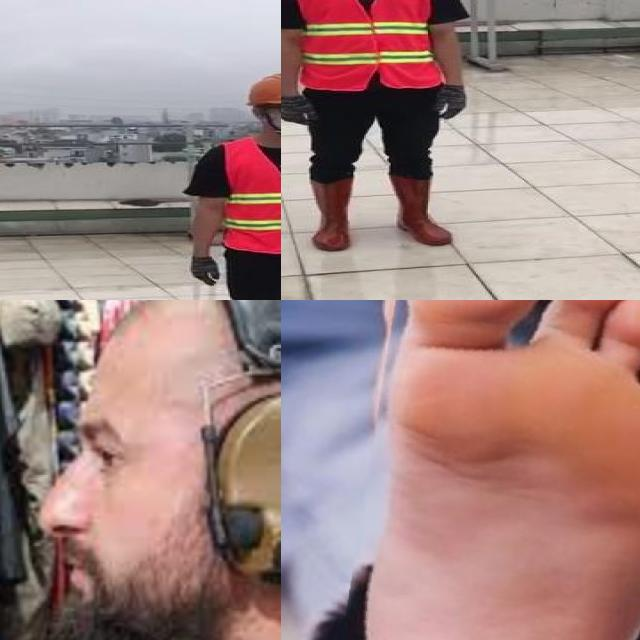Barefoots: (350, 300, 640, 640)
Ear-protection: (202, 300, 281, 594)
boots: (391, 175, 458, 247), (307, 179, 353, 251)
face_mask: (267, 102, 281, 135)
glasses: (268, 101, 281, 118)
hand_glove: (281, 96, 317, 129), (437, 88, 471, 118), (187, 257, 221, 285)
head_helmet: (244, 70, 281, 107)
person: (0, 300, 281, 640), (281, 0, 484, 261), (174, 69, 281, 300)
vest: (293, 0, 444, 92), (221, 136, 281, 255)
